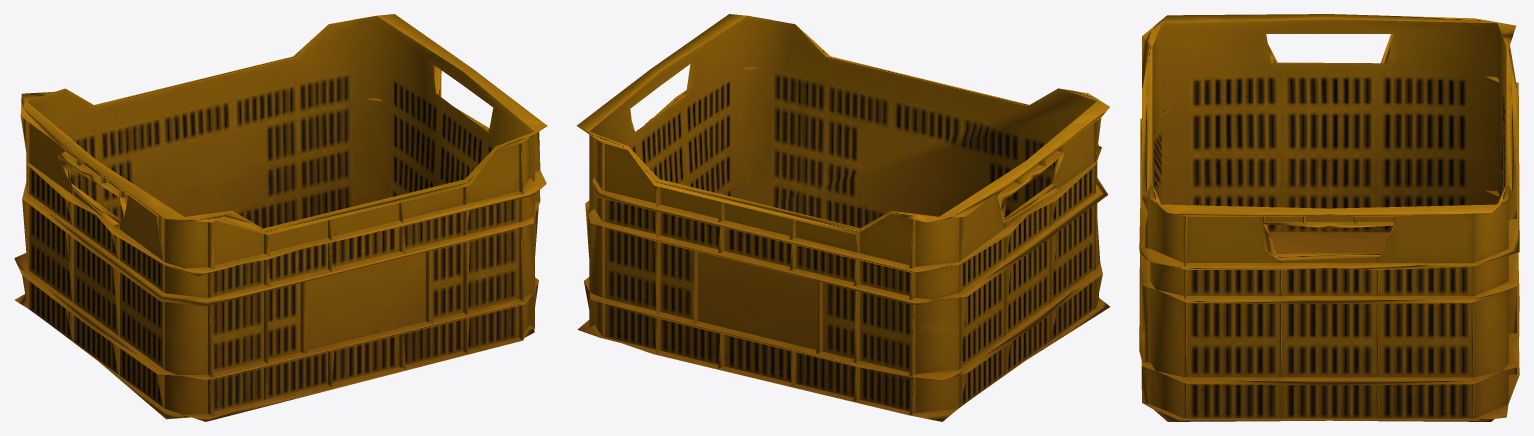
Rendered from plastic_crate_02.glb.
The picture shows the model from 3 angles, left to right: view 1: azimuth 30°, elevation 25°; view 2: azimuth 150°, elevation 25°; view 3: azimuth 270°, elevation 25°; orthographic projection. The views are drawn at different scales.
Visible parts, largest first — view 1: plastic_crate_02; view 2: plastic_crate_02; view 3: plastic_crate_02.
Part boxes in pixels (bbox=[...]): plastic_crate_02: bbox=[14, 14, 547, 421]; plastic_crate_02: bbox=[576, 14, 1109, 421]; plastic_crate_02: bbox=[1139, 14, 1519, 421].
Size of the model in its own units: 0.5055 by 0.2541 by 0.4055.
1 material, 1 textured.
